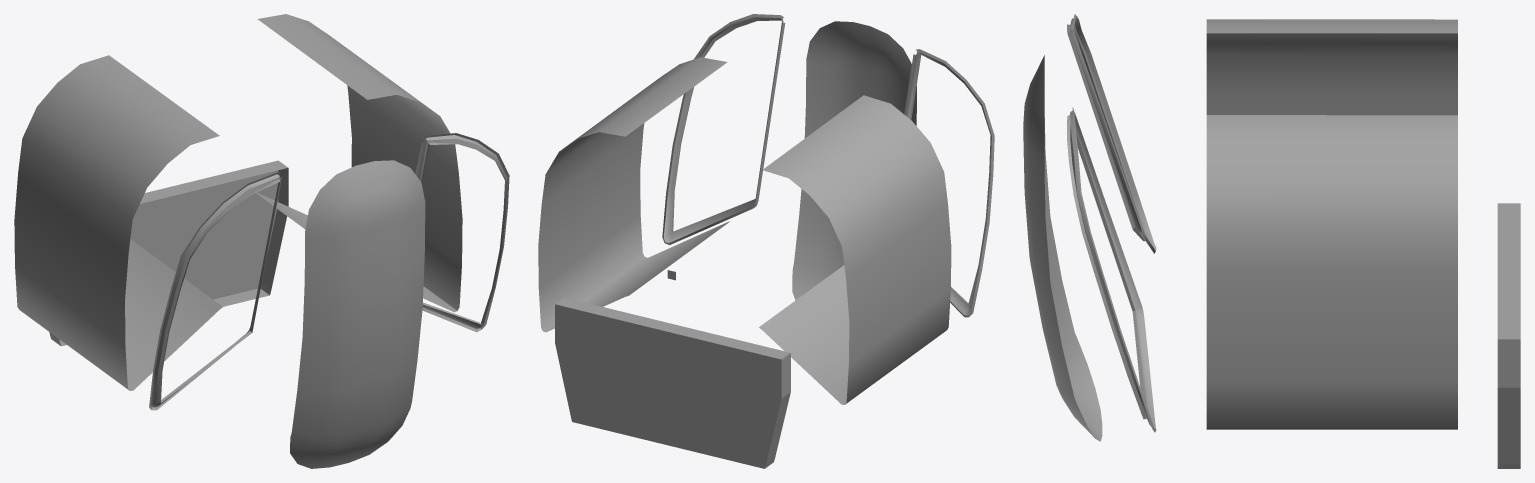
Rendered from CoffeeMachine_17_CoffeeMachine_17_0_GeomSubset_1.obj.
3 views of the same model, side by side, from view 1: azimuth 30°, elevation 25°; view 2: azimuth 150°, elevation 25°; view 3: azimuth 270°, elevation 25° (orthographic). The views are drawn at different scales.
Visible parts, largest first — view 1: CoffeeMachine_17_CoffeeMachine_17_0_GeomSubset_1; view 2: CoffeeMachine_17_CoffeeMachine_17_0_GeomSubset_1; view 3: CoffeeMachine_17_CoffeeMachine_17_0_GeomSubset_1.
Boxes of the visible parts, x1,y1,x2,y2 form: CoffeeMachine_17_CoffeeMachine_17_0_GeomSubset_1: (14,14,509,468); CoffeeMachine_17_CoffeeMachine_17_0_GeomSubset_1: (538,14,994,468); CoffeeMachine_17_CoffeeMachine_17_0_GeomSubset_1: (1023,14,1520,468).
Bounding box in the file's own units: 0.3934 × 0.3506 × 0.4336.
